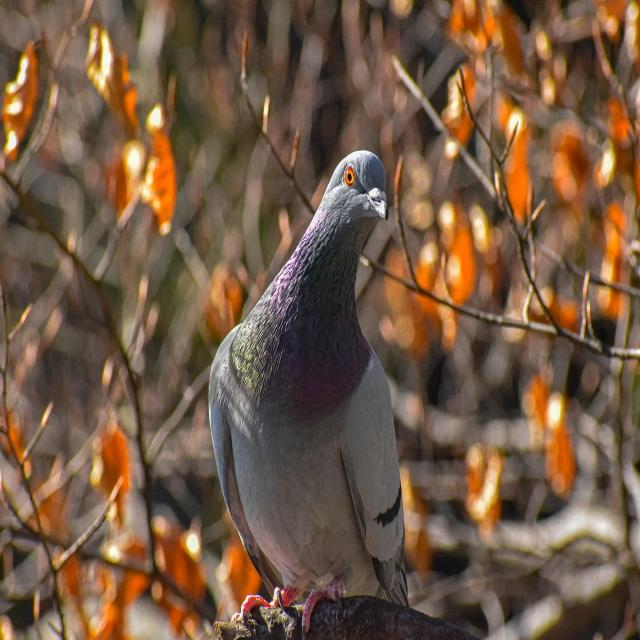pegion: (151, 104, 484, 536)
